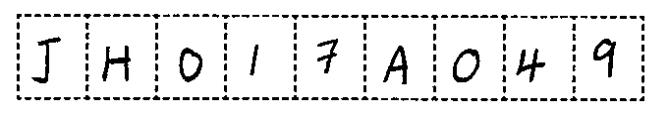0: (444, 44, 485, 88), (173, 41, 209, 88)
1: (236, 39, 266, 79)
4: (510, 44, 554, 89)
7: (310, 33, 345, 78)
9: (587, 34, 624, 81)
A: (378, 43, 416, 89)
H: (95, 39, 140, 88)
J: (25, 31, 65, 89)
